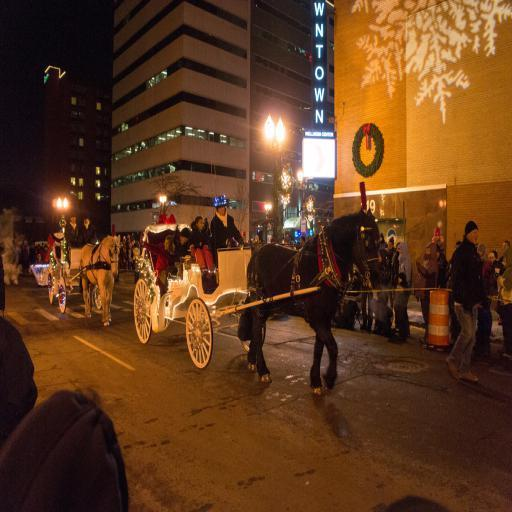horse: (245, 206, 384, 396), (78, 231, 122, 327)
